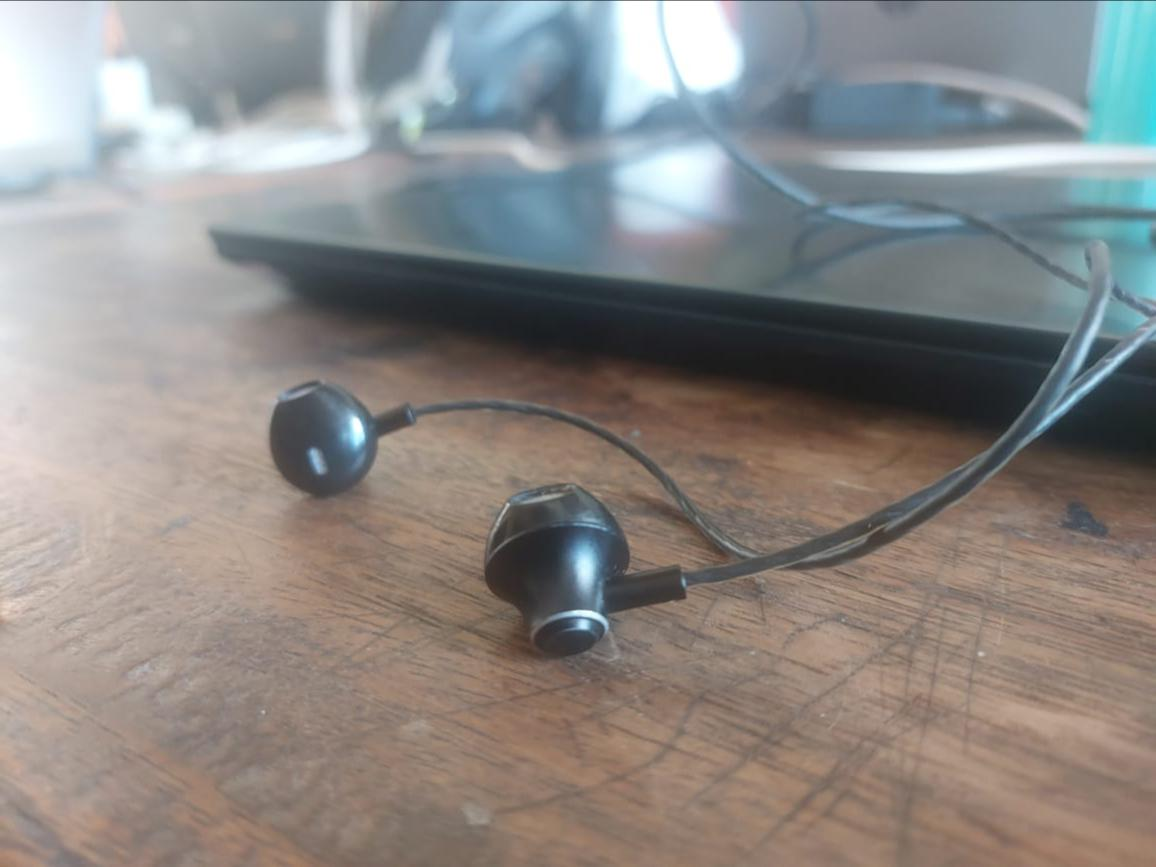Earphone: (471, 470, 683, 668), (264, 350, 422, 503)
